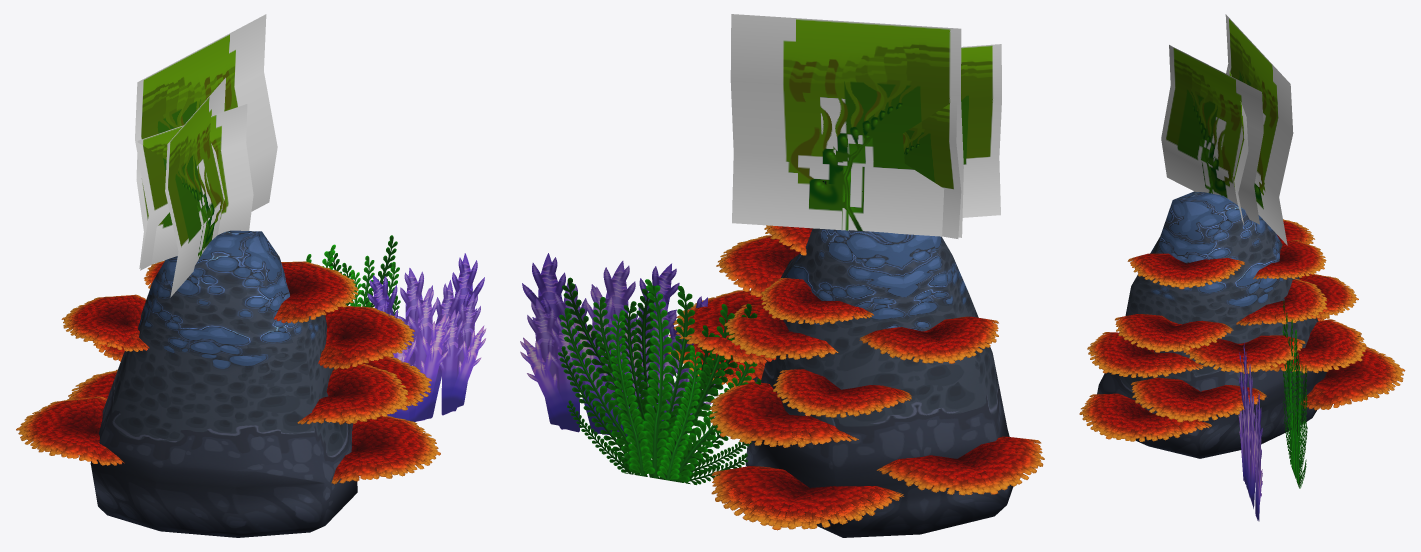
Rendered from CoralSet_02.FBX.
3 renders of one model, left to right at view 1: azimuth 30°, elevation 25°; view 2: azimuth 150°, elevation 25°; view 3: azimuth 270°, elevation 25°, orthographic. The views are drawn at different scales.
Visible parts, largest first — view 1: Box020, Plane331, Plane357, Plane329, Plane327; view 2: Plane357, Box020, Plane331, Plane327, Plane329; view 3: Plane331, Box020, Plane357, Plane327, Plane329.
Part boxes in pixels (<box>): Box020: <box>90,230,357,537</box>; Plane331: <box>16,260,440,484</box>; Plane357: <box>135,14,277,297</box>; Plane329: <box>367,253,486,421</box>; Plane327: <box>306,235,400,314</box>; Plane357: <box>730,14,1001,238</box>; Box020: <box>745,228,1013,537</box>; Plane331: <box>668,225,1044,530</box>; Plane327: <box>558,277,761,485</box>; Plane329: <box>520,253,715,436</box>; Plane331: <box>1079,219,1405,441</box>; Box020: <box>1097,191,1326,458</box>; Plane357: <box>1161,14,1293,245</box>; Plane327: <box>1282,301,1307,488</box>; Plane329: <box>1238,342,1262,521</box>.
Size of the model in its own units: 19517 by 17265 by 14084.
